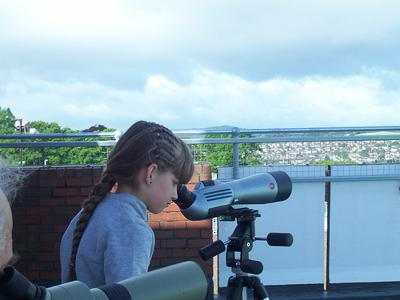person: (60, 122, 194, 291)
